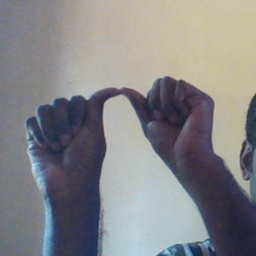A: (20, 74, 217, 193)
